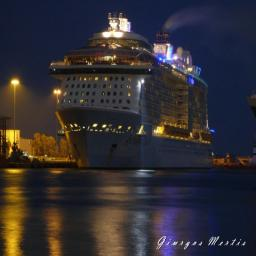cruises: (49, 12, 215, 176)
